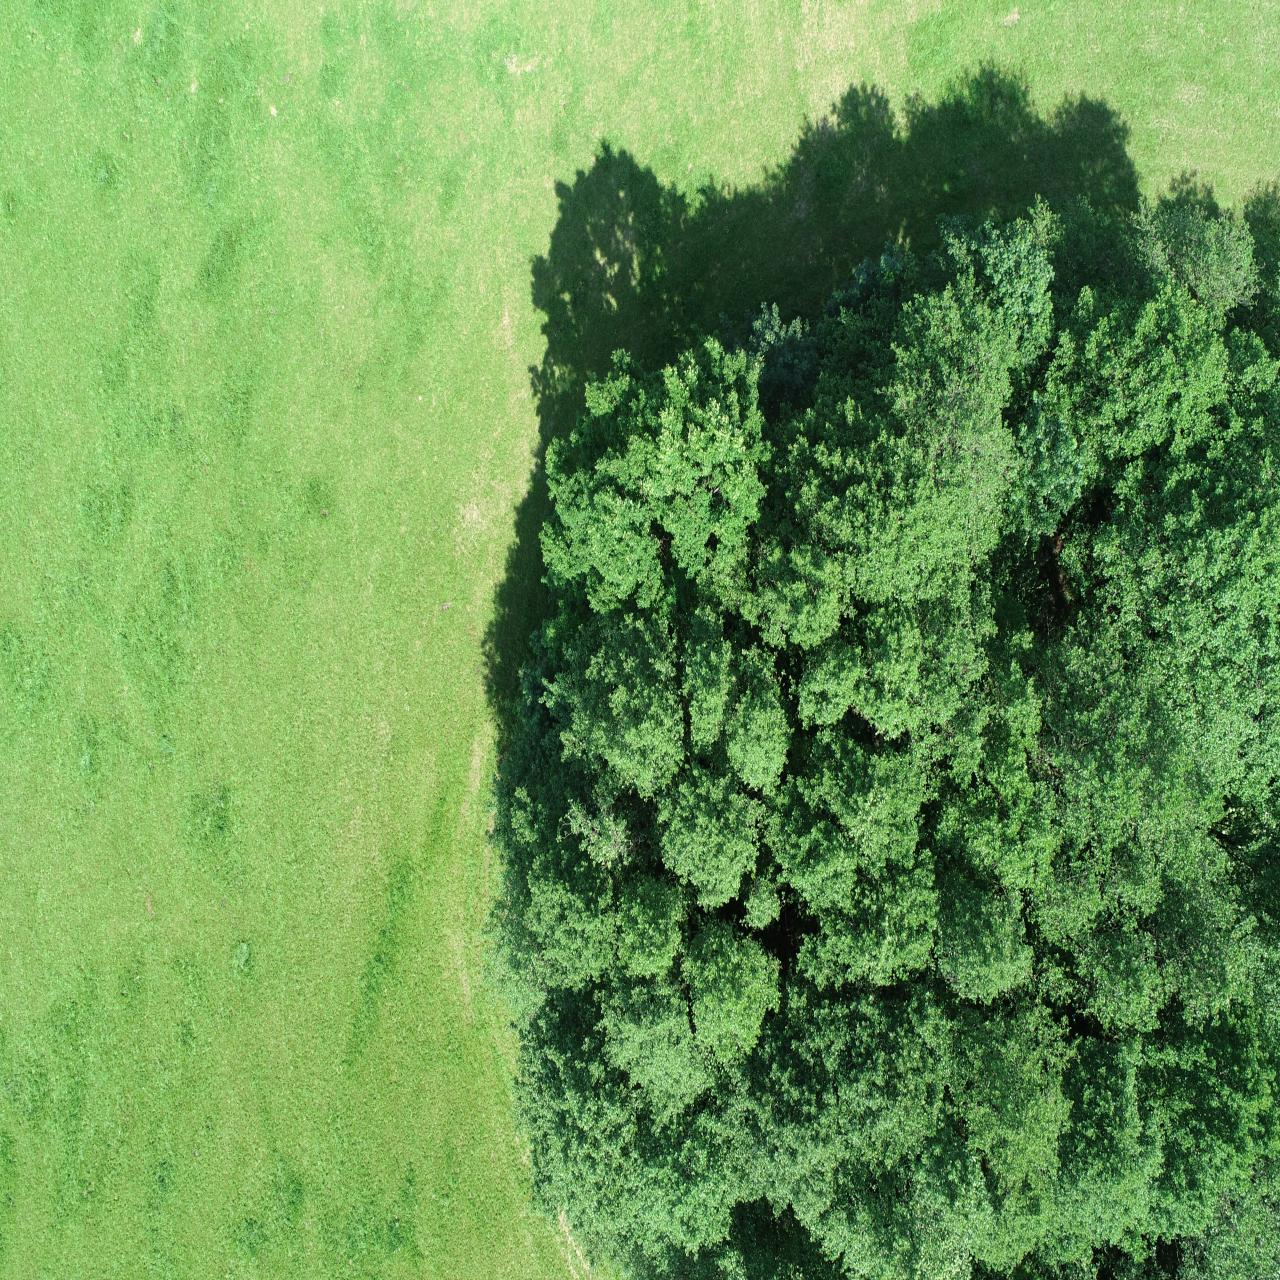cow: (245, 26, 281, 79), (288, 145, 313, 199)
